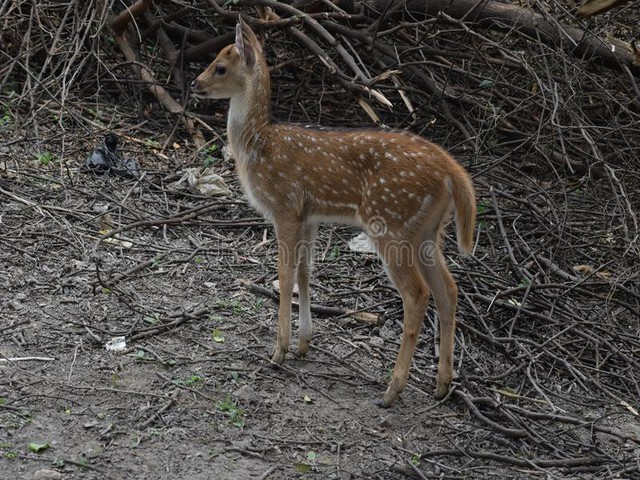deer: (182, 8, 482, 424)
